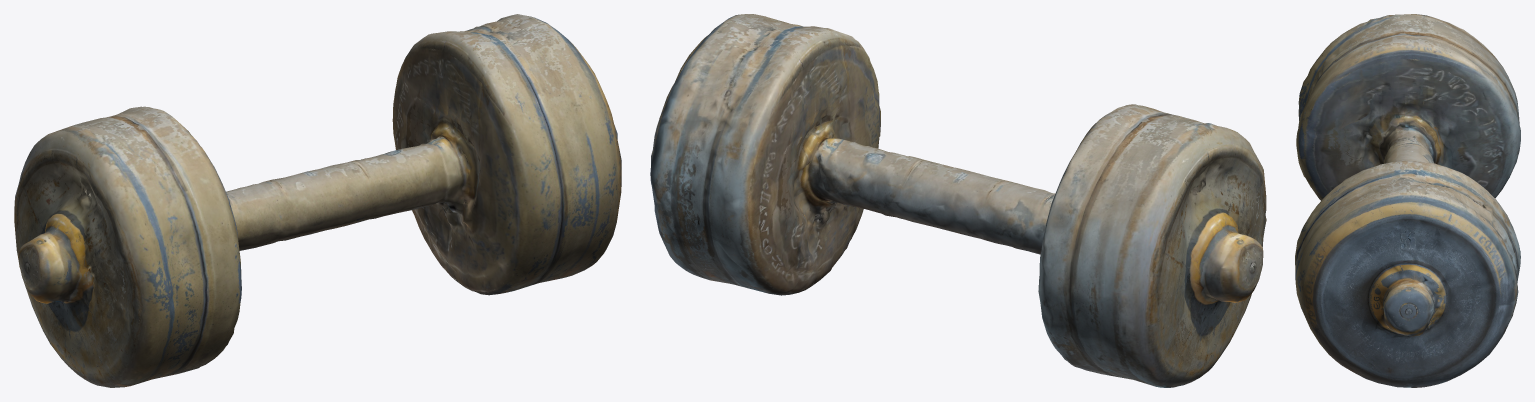
3 views of the same model, side by side, from view 1: azimuth 30°, elevation 25°; view 2: azimuth 150°, elevation 25°; view 3: azimuth 270°, elevation 25° (orthographic). The views are drawn at different scales.
Bounding box in the file's own units: 1.2 × 0.4858 × 0.5023.
Materials: 1 (1 with a texture image).
